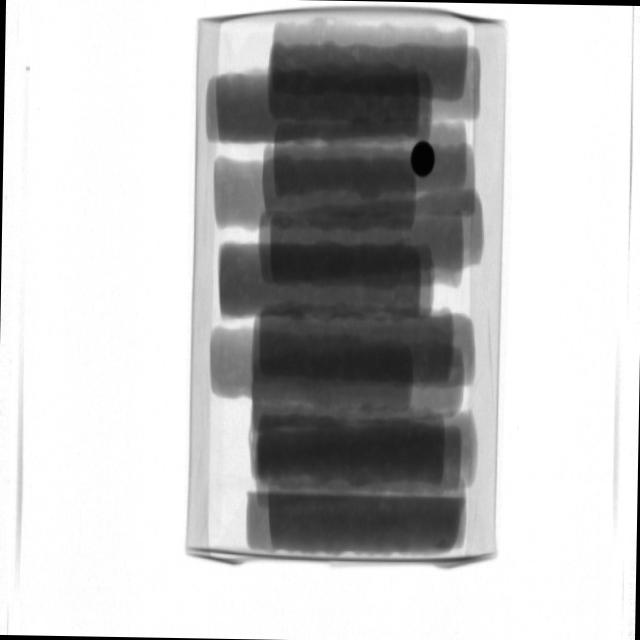ym: (410, 139, 436, 181)
